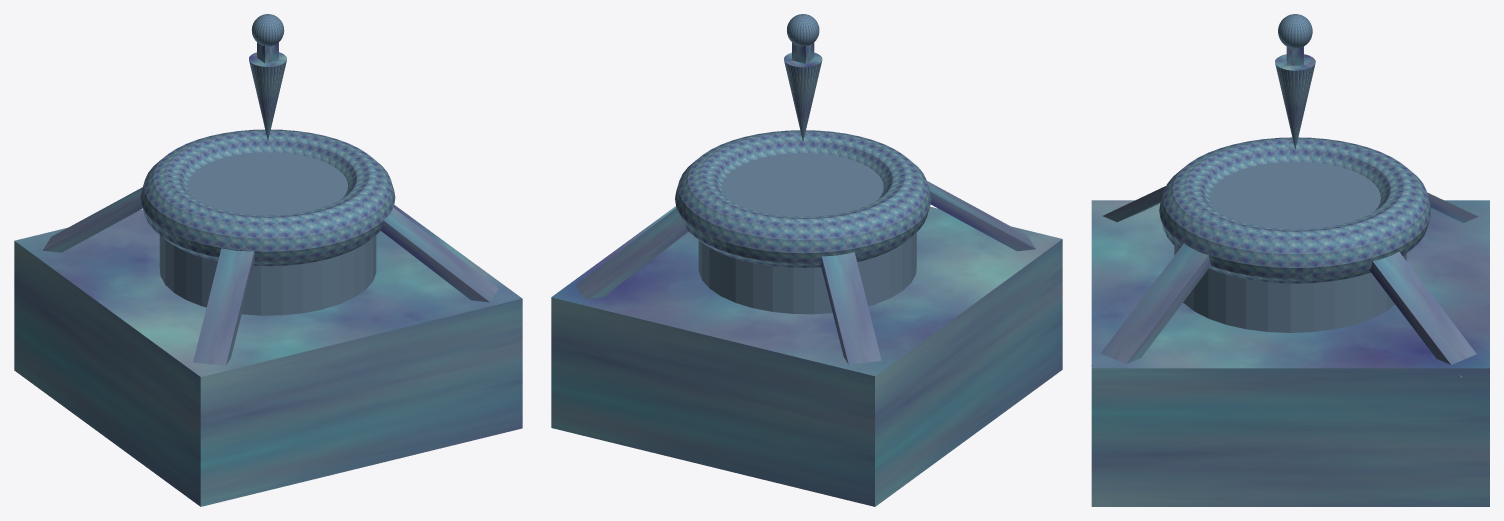
Rendered from enariasAltar5.obj.
3 renders of one model, left to right at view 1: azimuth 30°, elevation 25°; view 2: azimuth 150°, elevation 25°; view 3: azimuth 270°, elevation 25°, orthographic. The views are drawn at different scales.
Parts seen in each view (by area): view 1: Base, Torus, Cylinder, Arm1, Arm4, Arm2, Cone, Sphere; view 2: Base, Torus, Cylinder, Arm2, Arm3, Arm1, Cone, Sphere; view 3: Base, Torus, Cylinder, Arm4, Arm3, Cone, Sphere, Arm1, Arm2.
Part boxes in pixels (left/top/right/bottom): Base: left=14, top=205, right=522, bottom=506; Torus: left=140, top=129, right=395, bottom=266; Cylinder: left=159, top=152, right=376, bottom=315; Arm1: left=193, top=248, right=254, bottom=365; Arm4: left=380, top=207, right=498, bottom=302; Arm2: left=42, top=187, right=142, bottom=252; Cone: left=249, top=52, right=286, bottom=140; Sphere: left=251, top=14, right=284, bottom=46; Base: left=551, top=206, right=1062, bottom=506; Torus: left=675, top=130, right=931, bottom=267; Cylinder: left=698, top=153, right=916, bottom=314; Arm2: left=820, top=252, right=881, bottom=364; Arm3: left=576, top=208, right=688, bottom=299; Arm1: left=927, top=181, right=1035, bottom=251; Cone: left=784, top=52, right=822, bottom=141; Sphere: left=787, top=14, right=819, bottom=46; Base: left=1091, top=200, right=1489, bottom=506; Torus: left=1159, top=137, right=1431, bottom=283; Cylinder: left=1174, top=161, right=1406, bottom=332; Arm4: left=1091, top=243, right=1210, bottom=365; Arm3: left=1369, top=252, right=1476, bottom=377; Cone: left=1275, top=54, right=1315, bottom=149; Sphere: left=1278, top=14, right=1312, bottom=48; Arm1: left=1103, top=186, right=1165, bottom=222; Arm2: left=1427, top=192, right=1478, bottom=222.
Size of the model in its own units: 0.918 by 1.04 by 0.9174.
